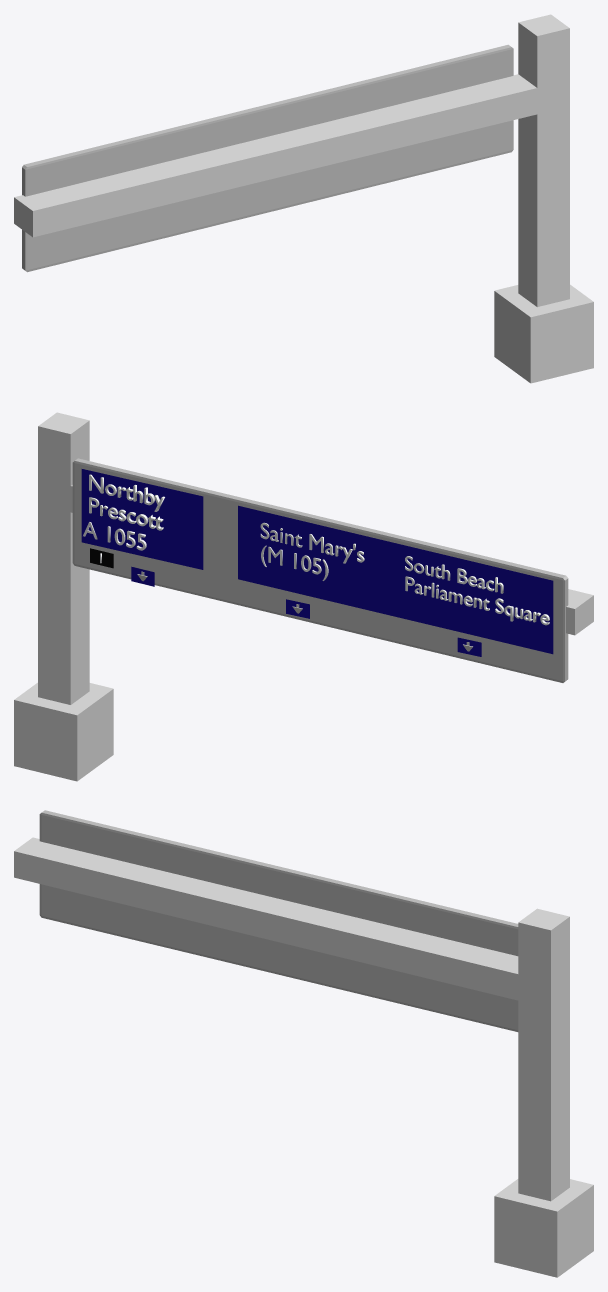
Rendered from M150JCT1ExitSignEastbound.fbx.
3 views of the same model, one above another, from view 1: azimuth 30°, elevation 25°; view 2: azimuth 150°, elevation 25°; view 3: azimuth 330°, elevation 25° (orthographic).
Parts seen in each view (by area): view 1: Cube, Cube.008; view 2: Cube, Plane.005, Cube.008, Plane.001, Text.003, Text, Text.002, Text.001; view 3: Cube, Cube.008.
Boxes of the visible parts, x1,y1,x2,y2 form: Cube: (14,14,593,383); Cube.008: (22,44,513,272); Cube: (14,412,593,781); Plane.005: (238,505,553,654); Cube.008: (72,458,568,682); Plane.001: (81,469,203,569); Text.003: (405,556,549,625); Text: (89,474,164,530); Text.002: (260,522,364,580); Text.001: (83,522,146,550); Cube: (14,837,593,1277); Cube.008: (39,810,518,1031).
Bounding box in the file's own units: 17.46 × 10.19 × 2.19.
